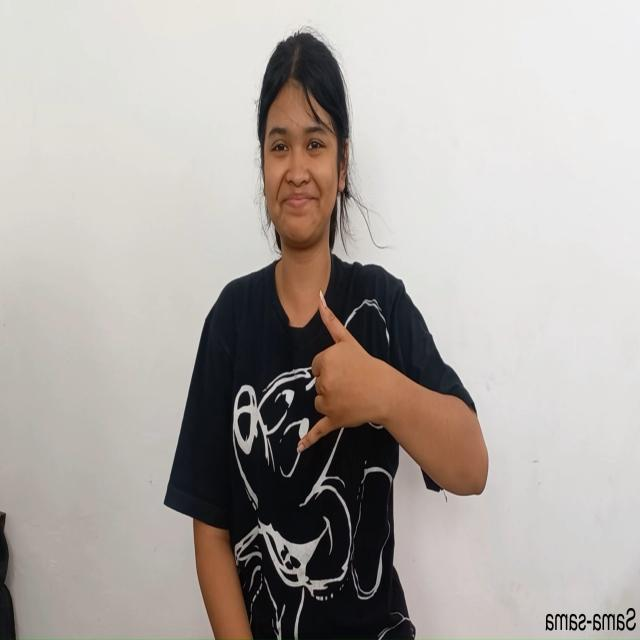Sama-sama -BISINDO-: (291, 284, 385, 466)
